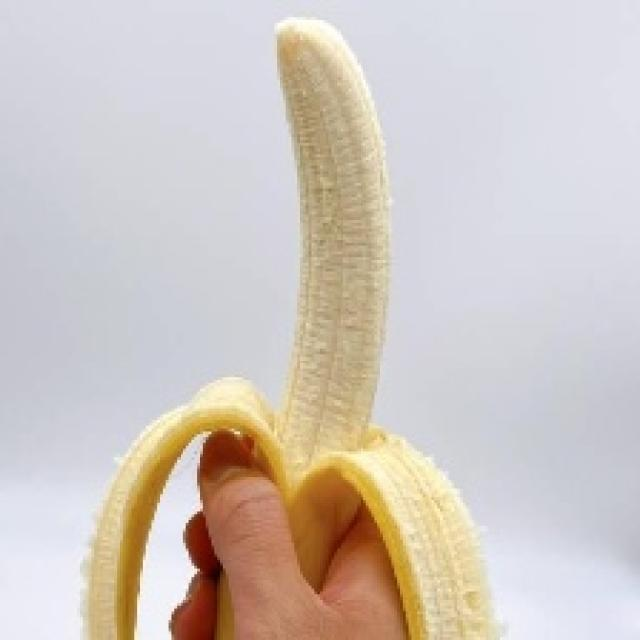Banana: (77, 14, 506, 637)
